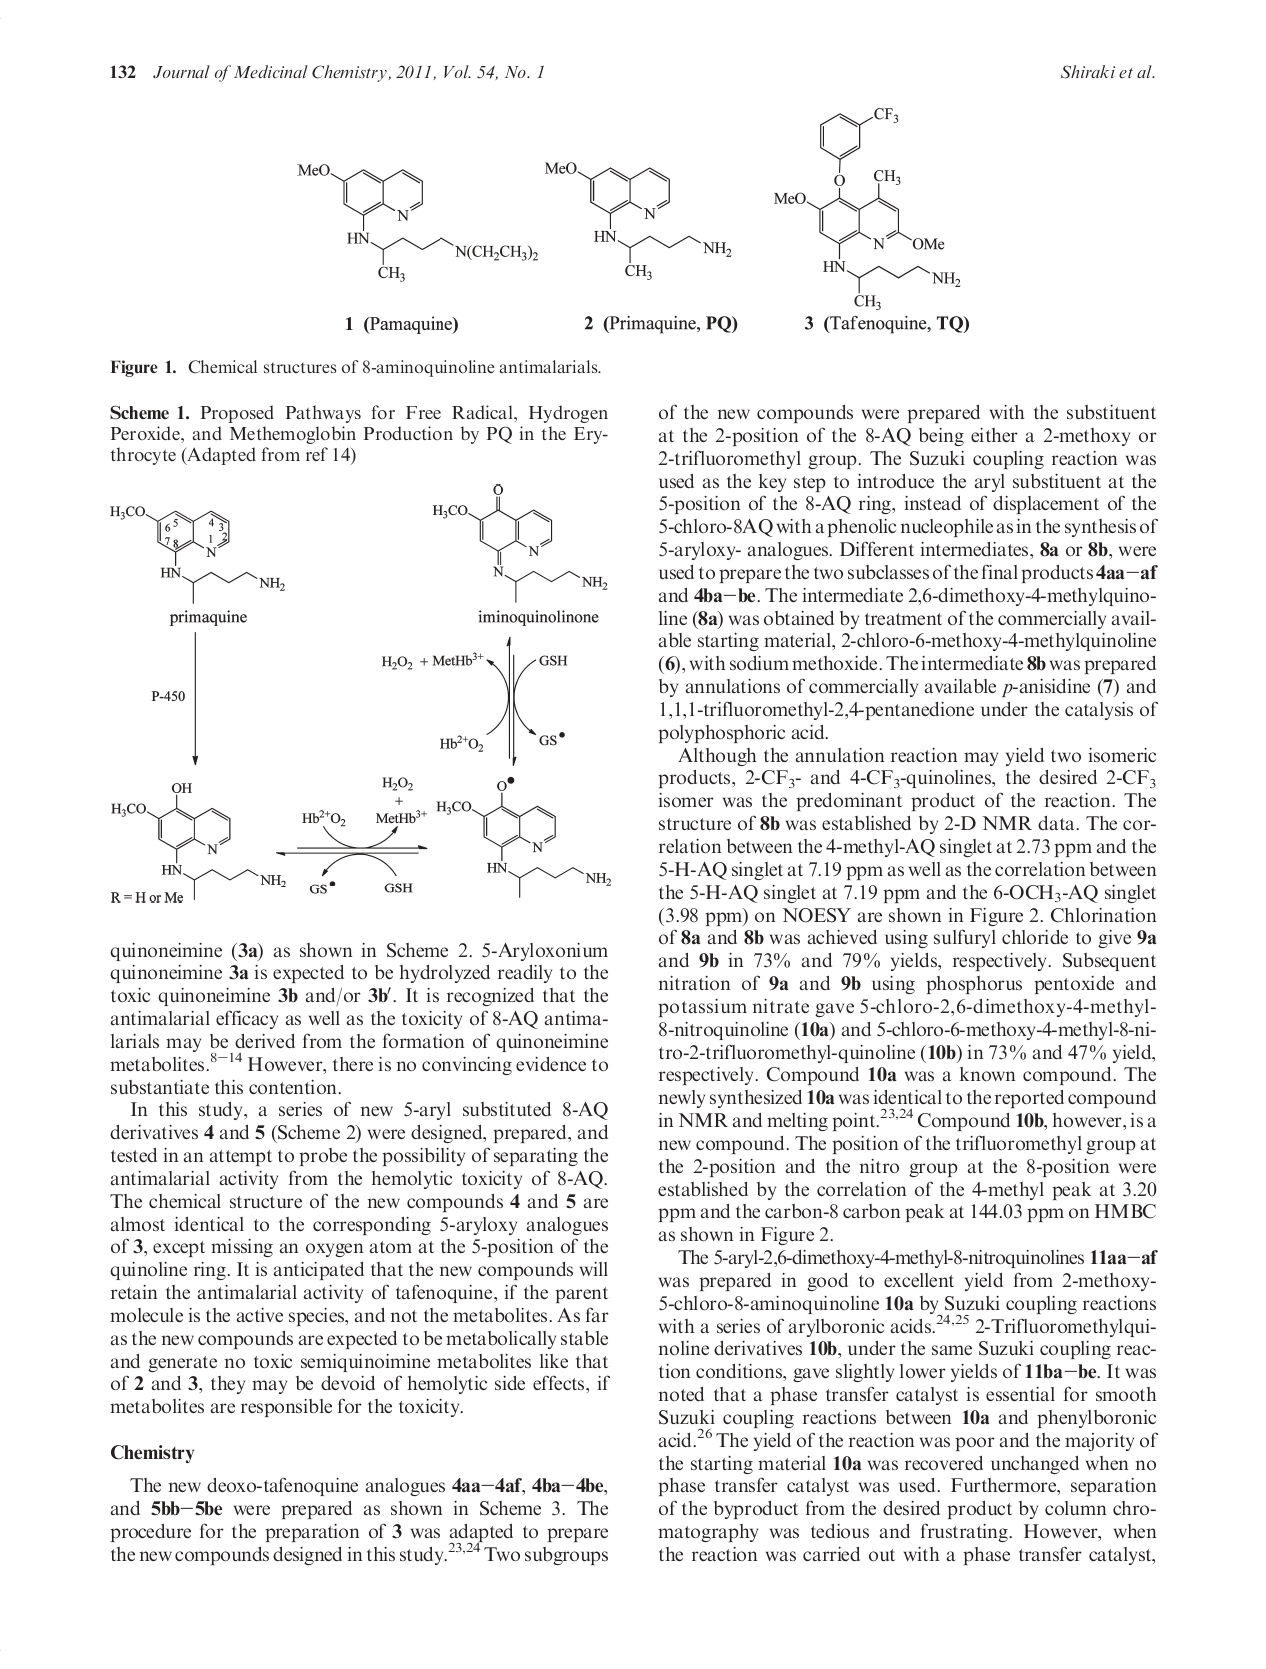exist_molecular: (769, 102, 963, 310), (295, 158, 543, 286), (543, 150, 735, 281), (435, 774, 617, 902), (430, 481, 609, 605), (108, 779, 289, 902), (105, 499, 289, 606)
